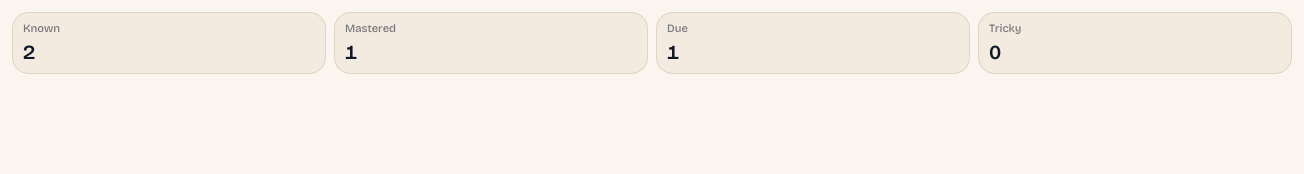
Scenario: opening one › swaps to another figure's words rather than showing both
Click the button "Known 2": coordinates (42, 28) [12,12,326,74]
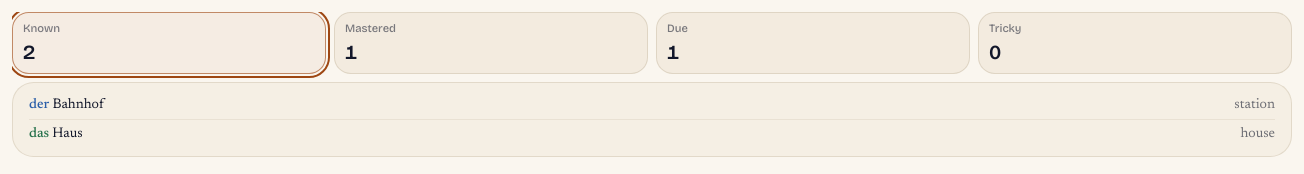
Click the button "Due 1": coordinates (677, 28) [656,12,970,74]
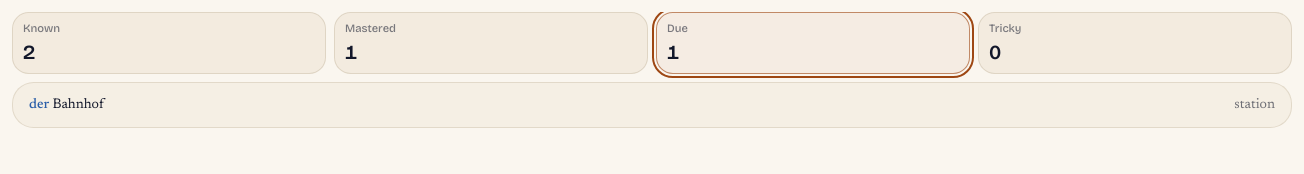
Expected: the button "Due 1" is expanded, [656,12,970,74]
Expected: the button "Known 2" is collapsed, [12,12,326,74]
Expected: the text "Haus" is gone
